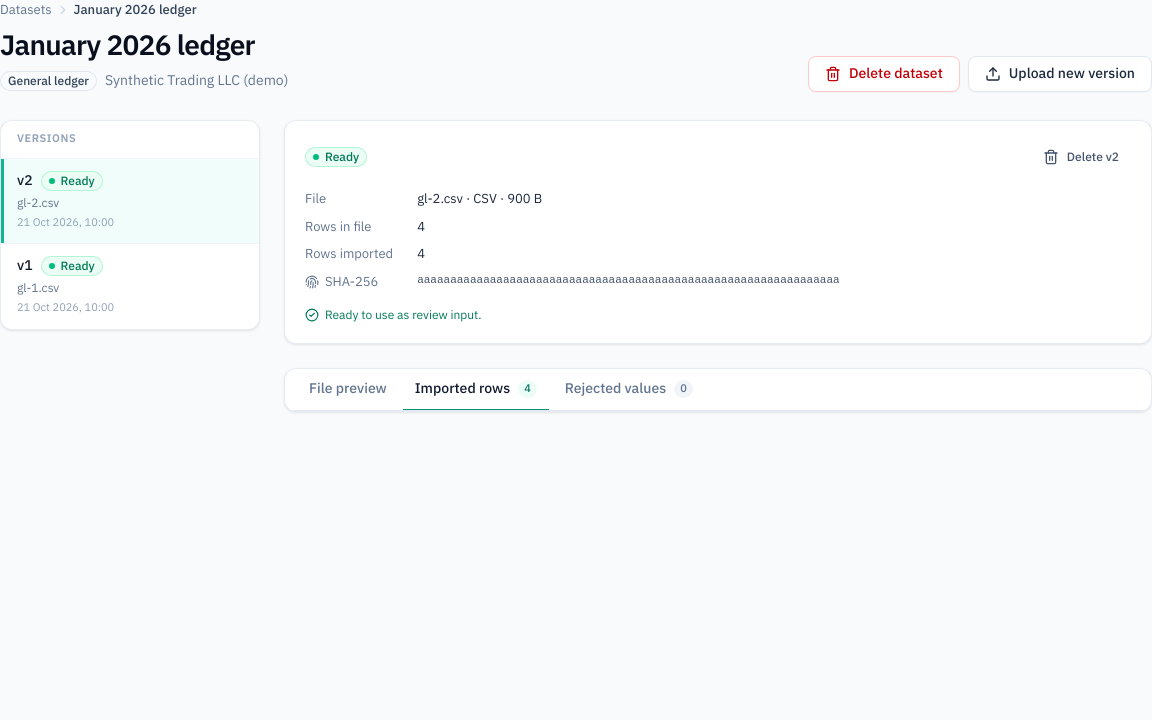
Scenario: a version in use is refused with the server's reason
Click the button "Delete v2": click(1081, 157) [1031, 141, 1131, 173]
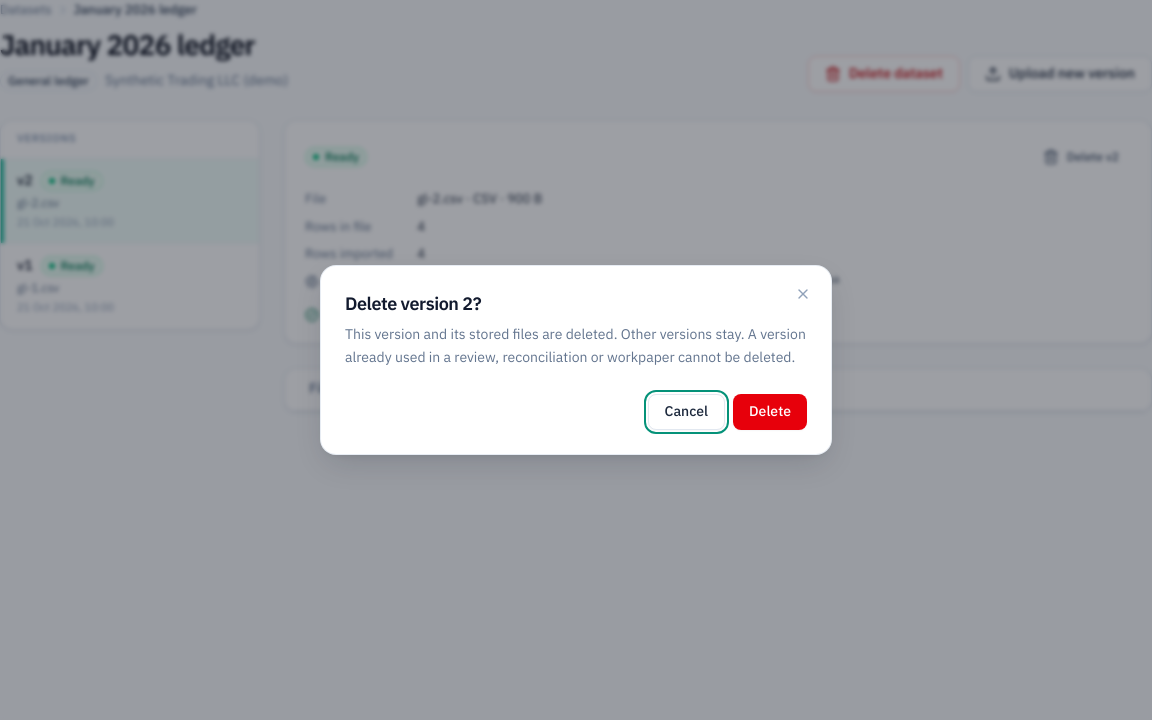
Click the button "Delete": click(770, 412) [733, 394, 807, 430]
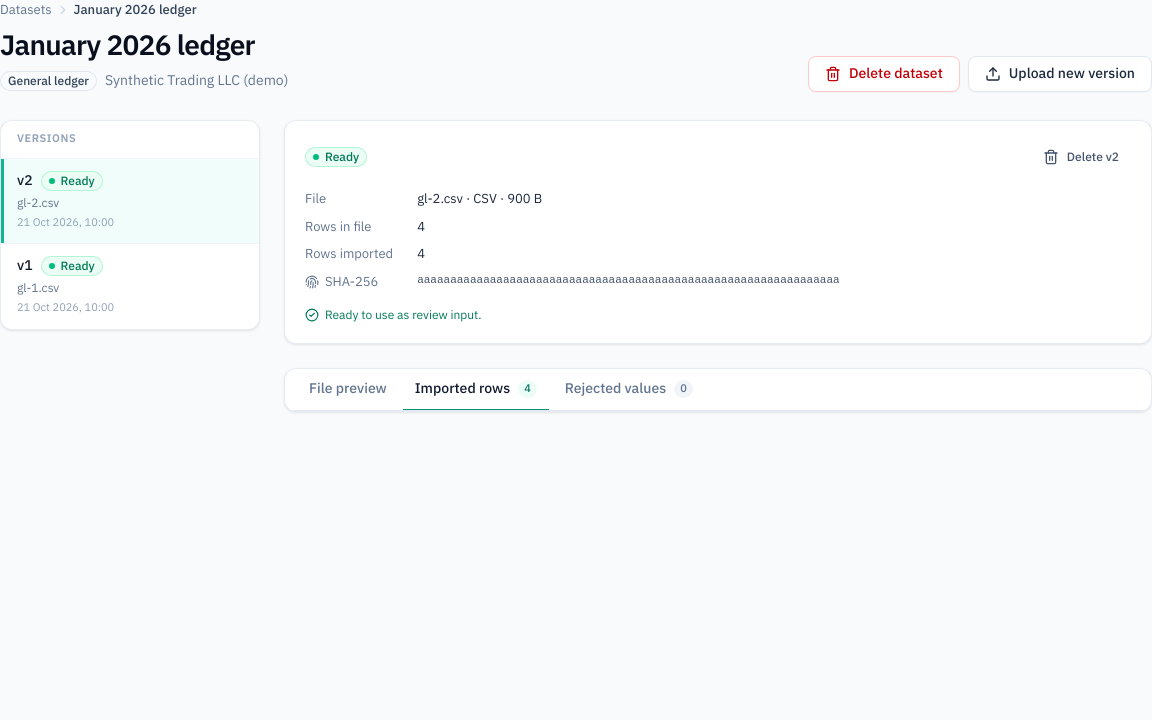
Expected: the button "Delete v2" is shown, [1031, 141, 1131, 173]
Expected: the dialog is gone
